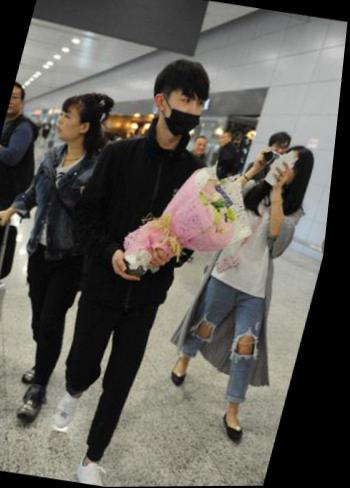NONE: (53, 109, 89, 146), (10, 90, 29, 116), (198, 141, 212, 157)
WRONG: (163, 86, 214, 138)
